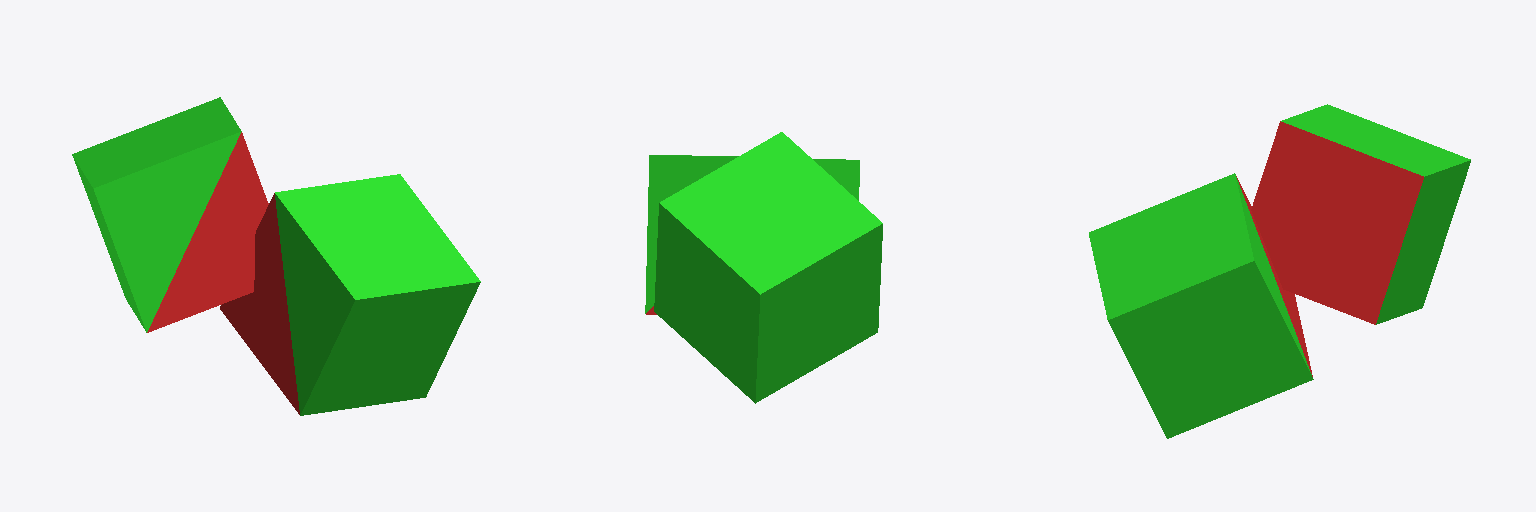
Rendered from cube_overlap_tilted.obj.
3 renders of one model, left to right at view 1: azimuth 30°, elevation 25°; view 2: azimuth 150°, elevation 25°; view 3: azimuth 270°, elevation 25°, orthographic.
Size of the model in its own units: 4.03 by 3.55 by 4.81.